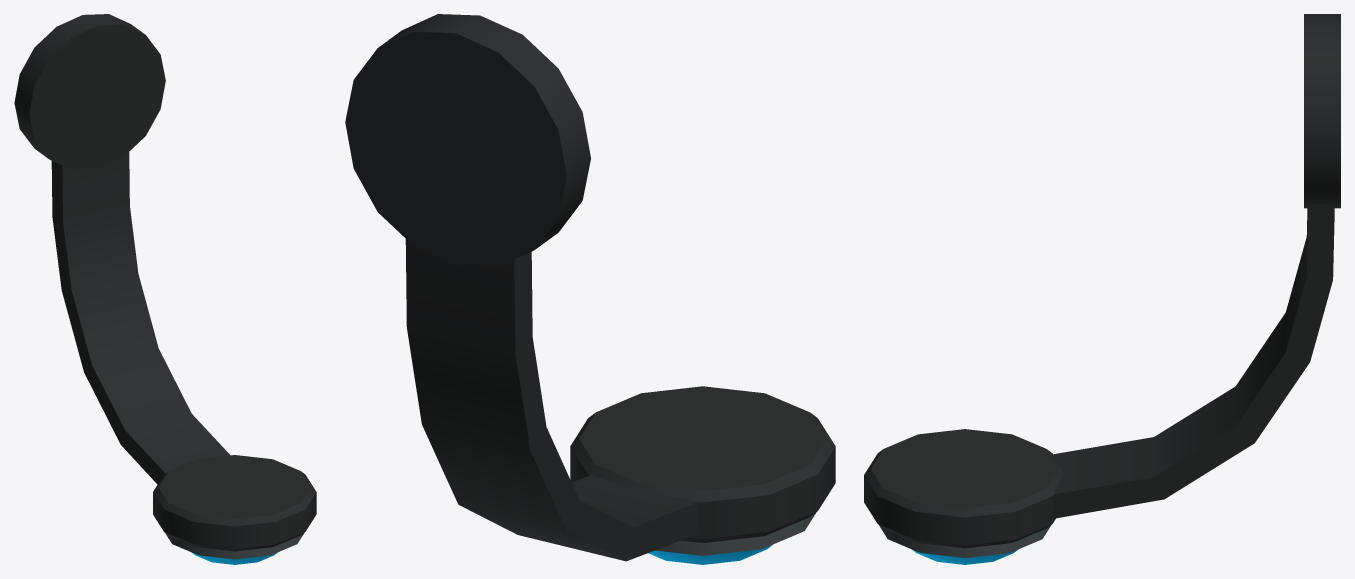
Rendered from Sphere_Vehicle_Arm_003.fbx.
The picture shows the model from 3 angles, left to right: view 1: azimuth 30°, elevation 25°; view 2: azimuth 150°, elevation 25°; view 3: azimuth 270°, elevation 25°; orthographic projection. The views are drawn at different scales.
Parts seen in each view (by area): view 1: Sphere_Vehicle_Arm_003; view 2: Sphere_Vehicle_Arm_003; view 3: Sphere_Vehicle_Arm_003.
Boxes of the visible parts, x1=… form: Sphere_Vehicle_Arm_003: x1=14, y1=14, x2=316, y2=564; Sphere_Vehicle_Arm_003: x1=345, y1=14, x2=835, y2=564; Sphere_Vehicle_Arm_003: x1=864, y1=14, x2=1340, y2=564.
Size of the model in its own units: 40.35 by 95.23 by 116.
